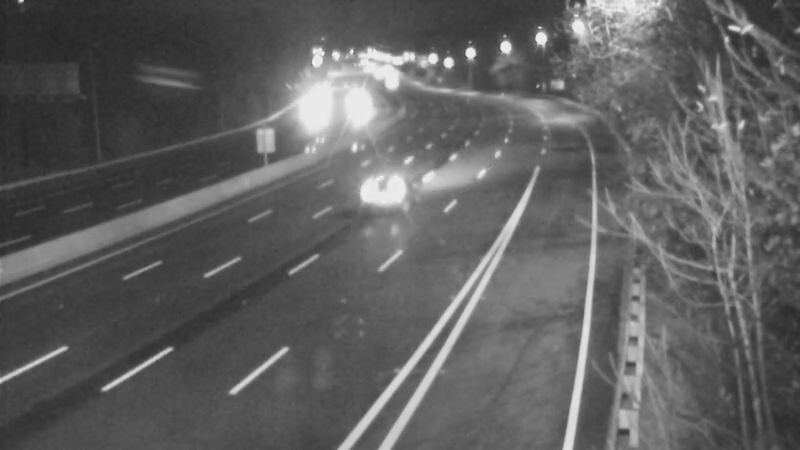vehicle: (350, 154, 430, 234), (368, 58, 418, 108), (285, 83, 335, 133), (336, 77, 386, 127)
